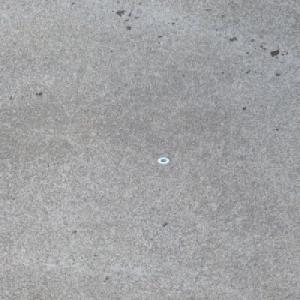Washer: (156, 156, 170, 164)
